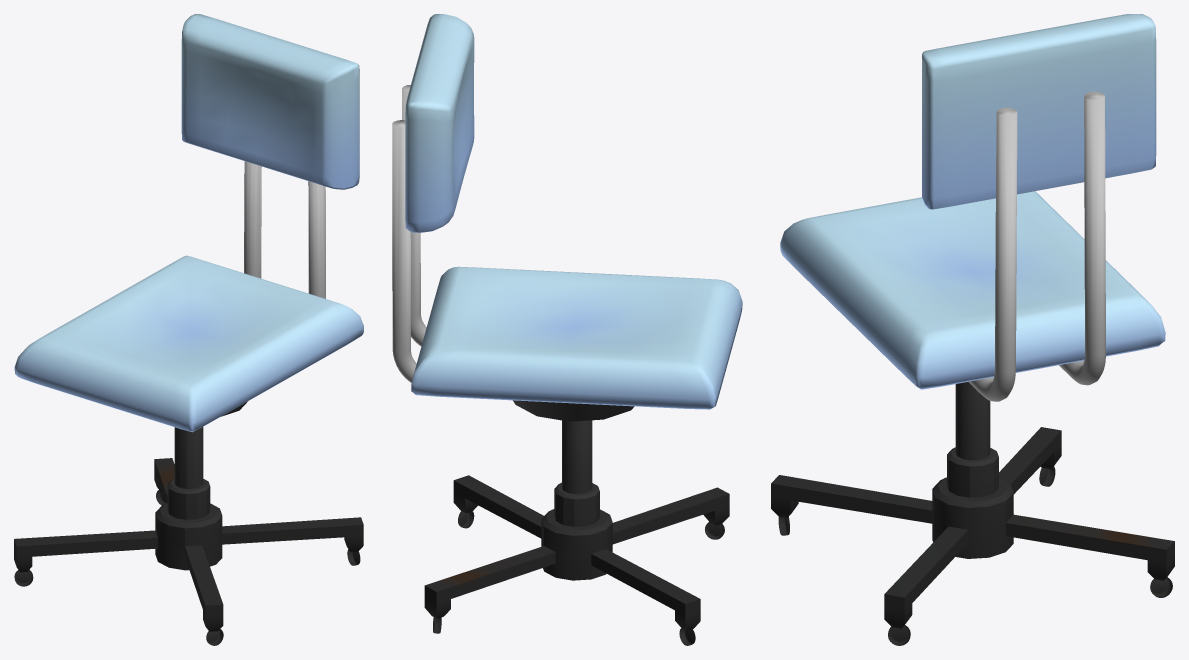
The model's file is Silla.fbx.
The picture shows the model from 3 angles, left to right: view 1: azimuth 30°, elevation 25°; view 2: azimuth 150°, elevation 25°; view 3: azimuth 270°, elevation 25°; orthographic projection. The views are drawn at different scales.
Visible parts, largest first — view 1: Sillon, Cojin de arriba, Estructura silla, Tubos, Ruedas; view 2: Sillon, Estructura silla, Cojin de arriba, Tubos, Ruedas; view 3: Sillon, Cojin de arriba, Estructura silla, Tubos, Ruedas.
Boxes of the visible parts, left/top/right/bottom form: Sillon: left=14, top=255, right=363, bottom=432; Cojin de arriba: left=181, top=14, right=359, bottom=189; Estructura silla: left=14, top=401, right=363, bottom=631; Tubos: left=244, top=161, right=325, bottom=298; Ruedas: left=14, top=490, right=360, bottom=645; Sillon: left=411, top=266, right=742, bottom=409; Estructura silla: left=424, top=400, right=729, bottom=630; Cojin de arriba: left=405, top=14, right=474, bottom=232; Tubos: left=392, top=85, right=426, bottom=382; Ruedas: left=433, top=511, right=724, bottom=645; Sillon: left=780, top=191, right=1165, bottom=389; Cojin de arriba: left=922, top=14, right=1156, bottom=209; Estructura silla: left=771, top=382, right=1174, bottom=628; Tubos: left=968, top=91, right=1105, bottom=401; Ruedas: left=778, top=466, right=1172, bottom=645.
Bounding box in the file's own units: 64.06 × 97.56 × 60.22.
